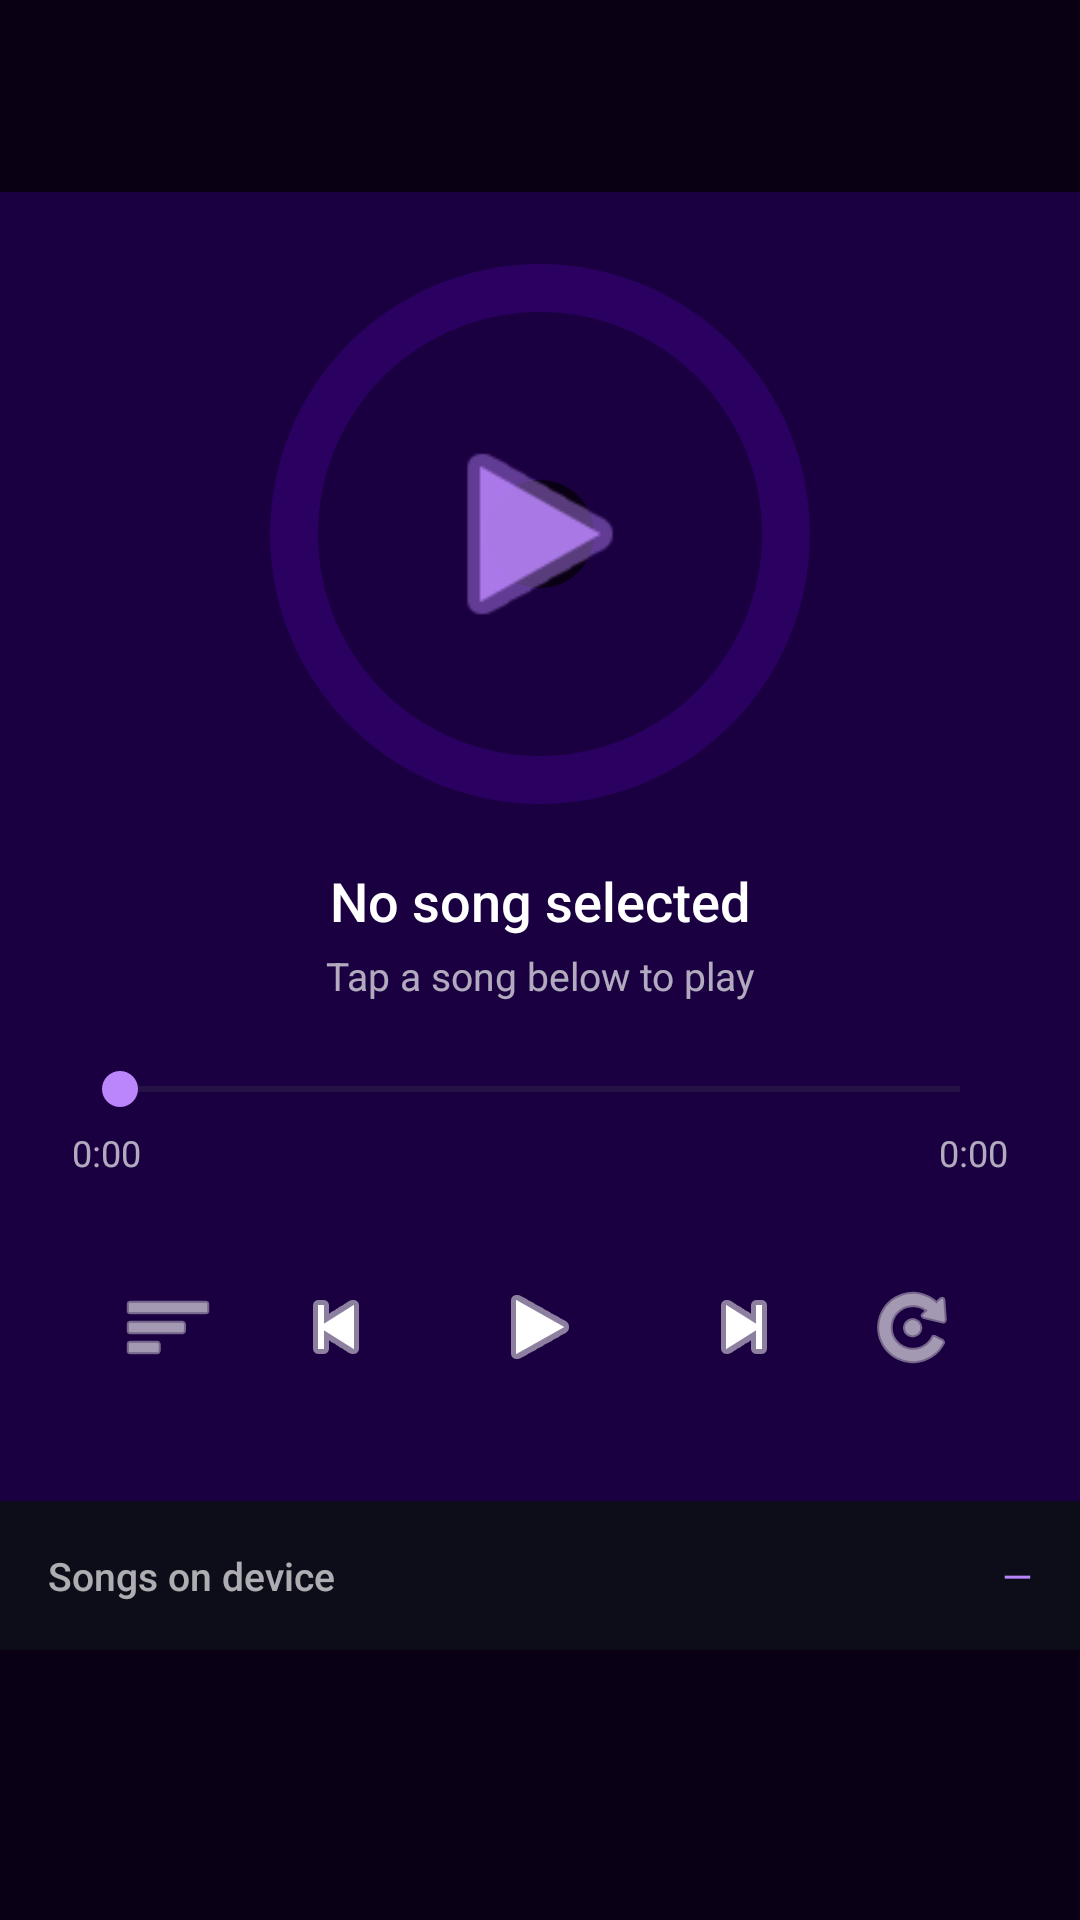

Icon click points for this 1080 x 1920 phone screenshot, format [x,y]:
Next song: [744,1327]
play: [540,534]
Play or Pause: [540,1327]
Previous song: [336,1327]
Repeat: [912,1327]
